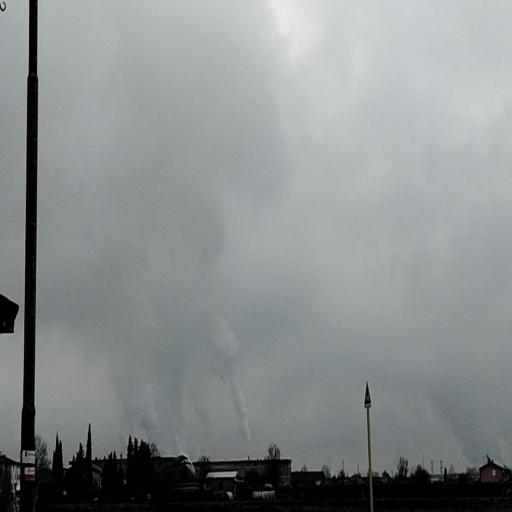leakage: (54, 210, 254, 481)
